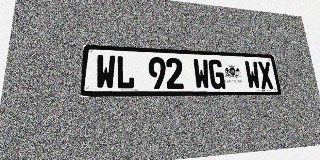2: (166, 57, 184, 89)
9: (148, 57, 167, 89)
G: (208, 59, 226, 89)
L: (116, 55, 135, 89)
W: (95, 55, 116, 89), (193, 59, 211, 89), (244, 61, 261, 89)
X: (257, 61, 274, 89)
